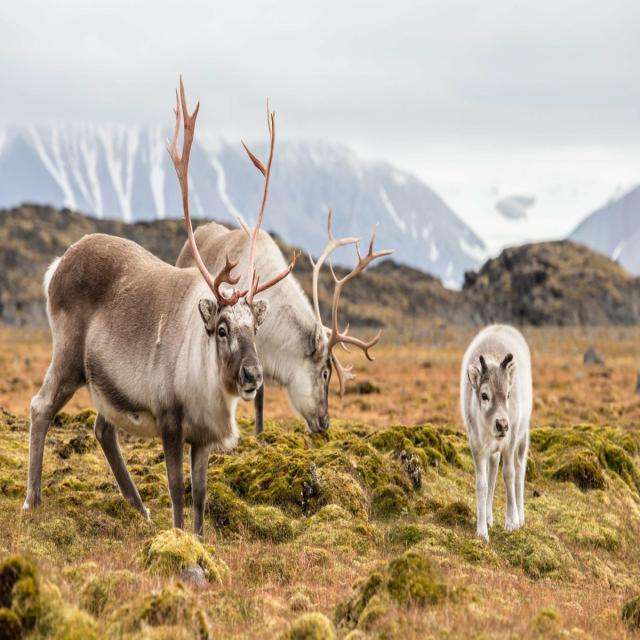Reindeer: (26, 81, 270, 530), (167, 173, 392, 445), (444, 317, 540, 548)
